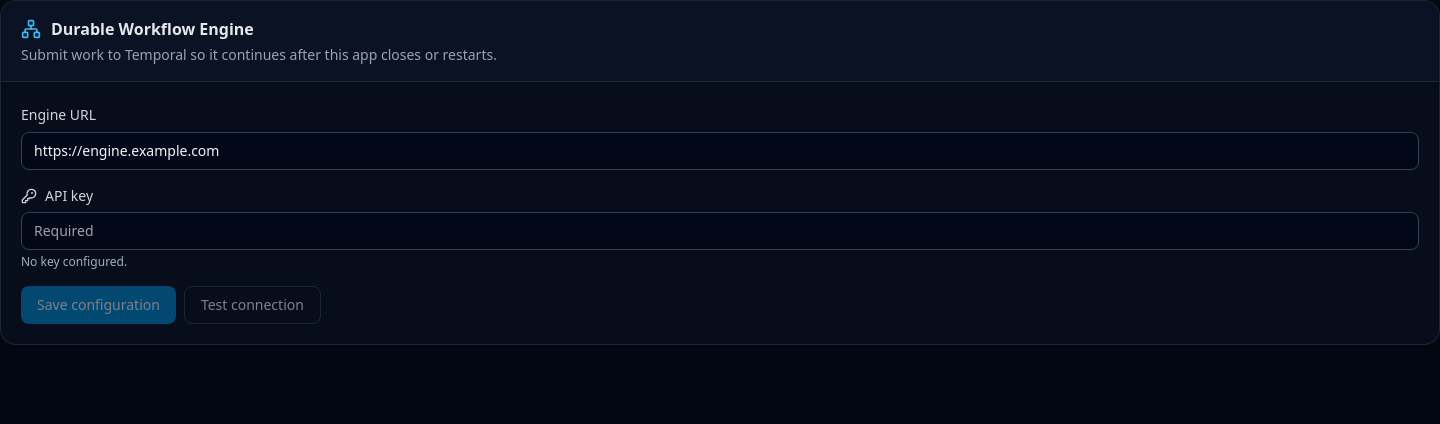
DurableWorkflowSettings › shows an error when saving fails
The width and height of the screenshot is (1440, 424).
In the password field with placeholder "Required": [720, 231] box [21,212,1419,250], type "new-key"
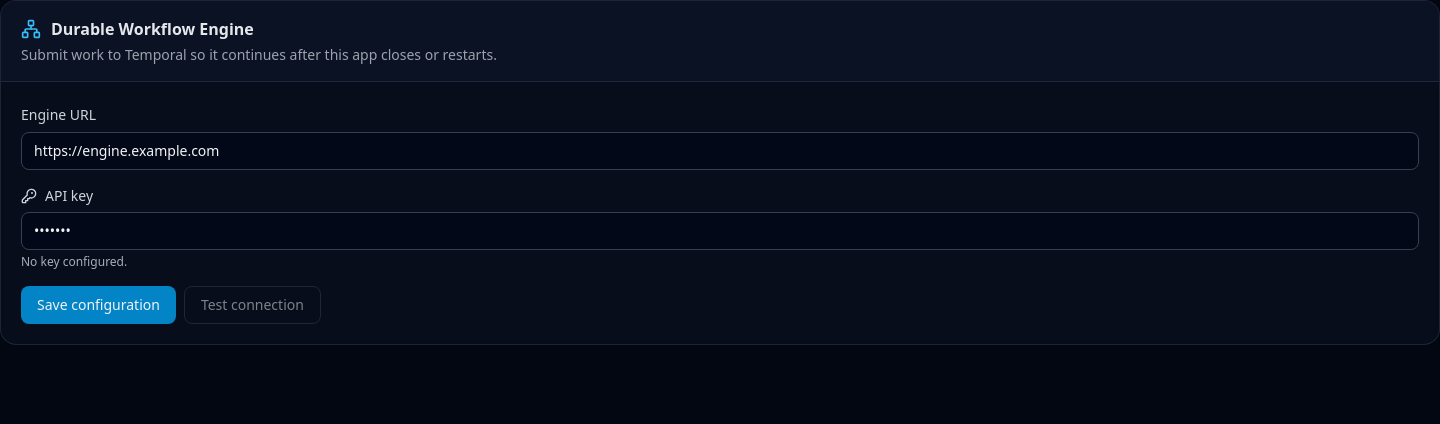
Click the button "Save configuration": [98, 305] box [21,286,176,324]
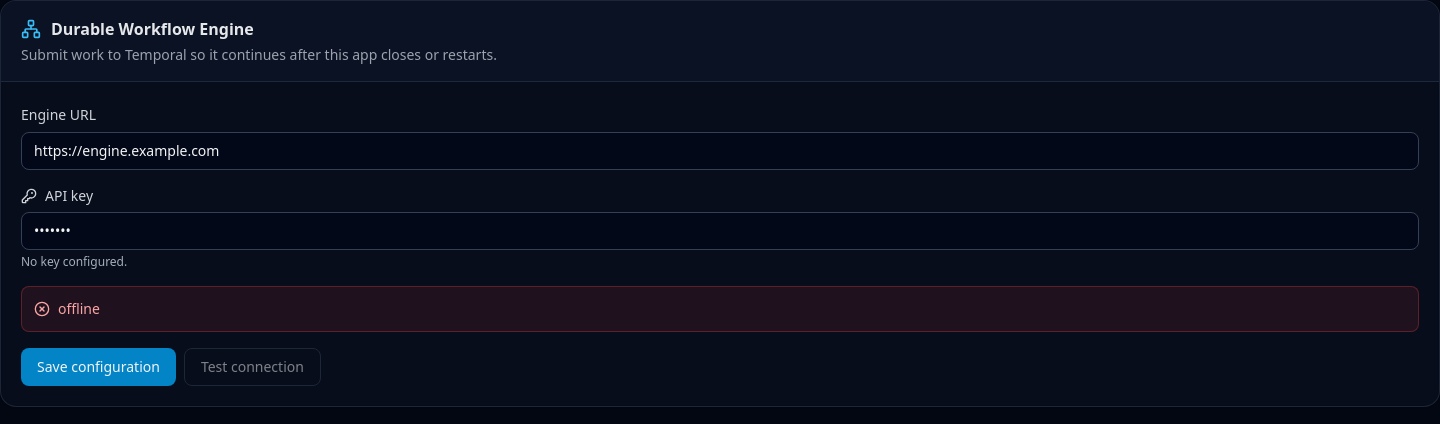
expect the text "offline" is shown: met, box [21,286,1419,332]
